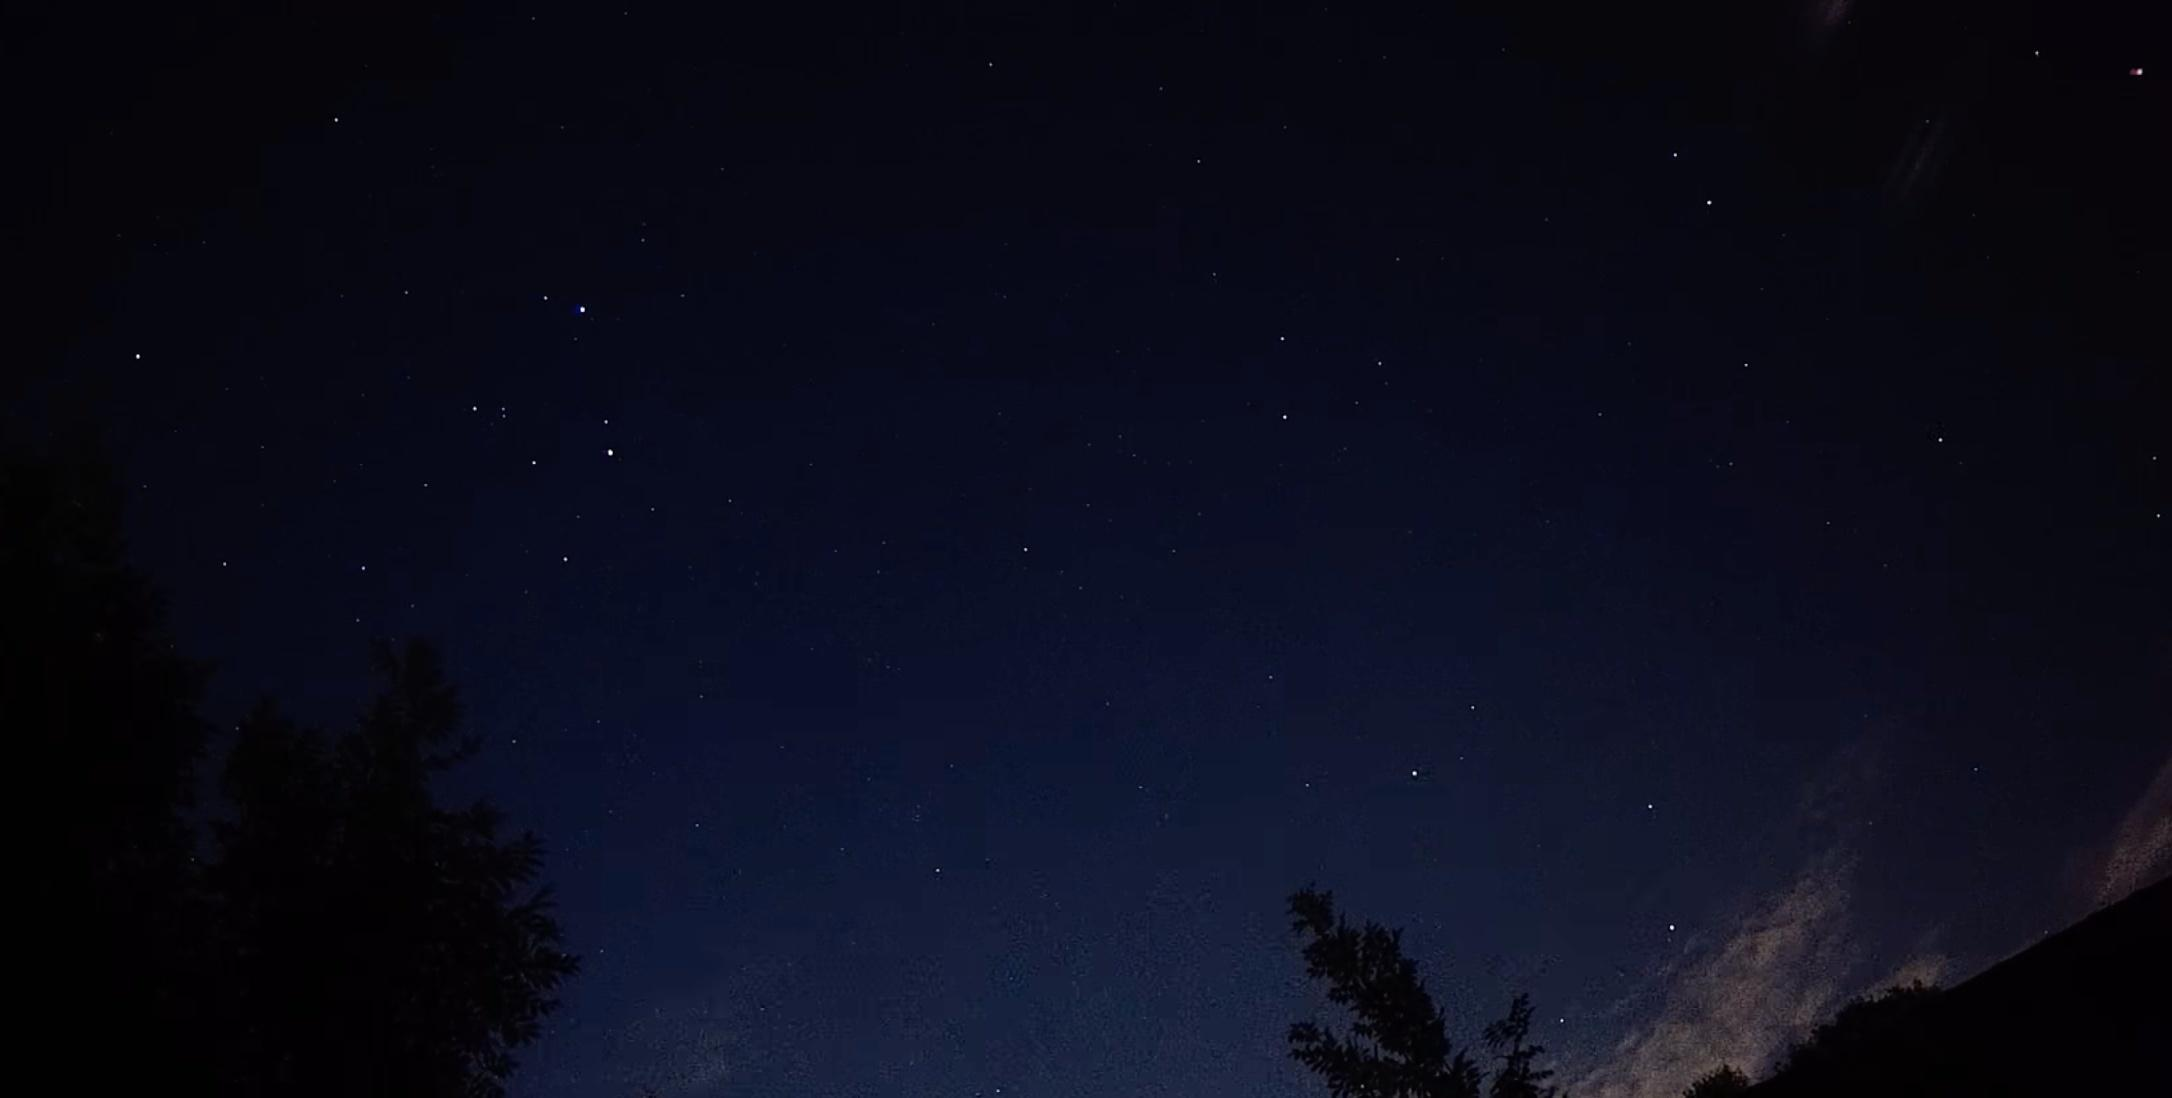Plane: (2109, 55, 2171, 88)
